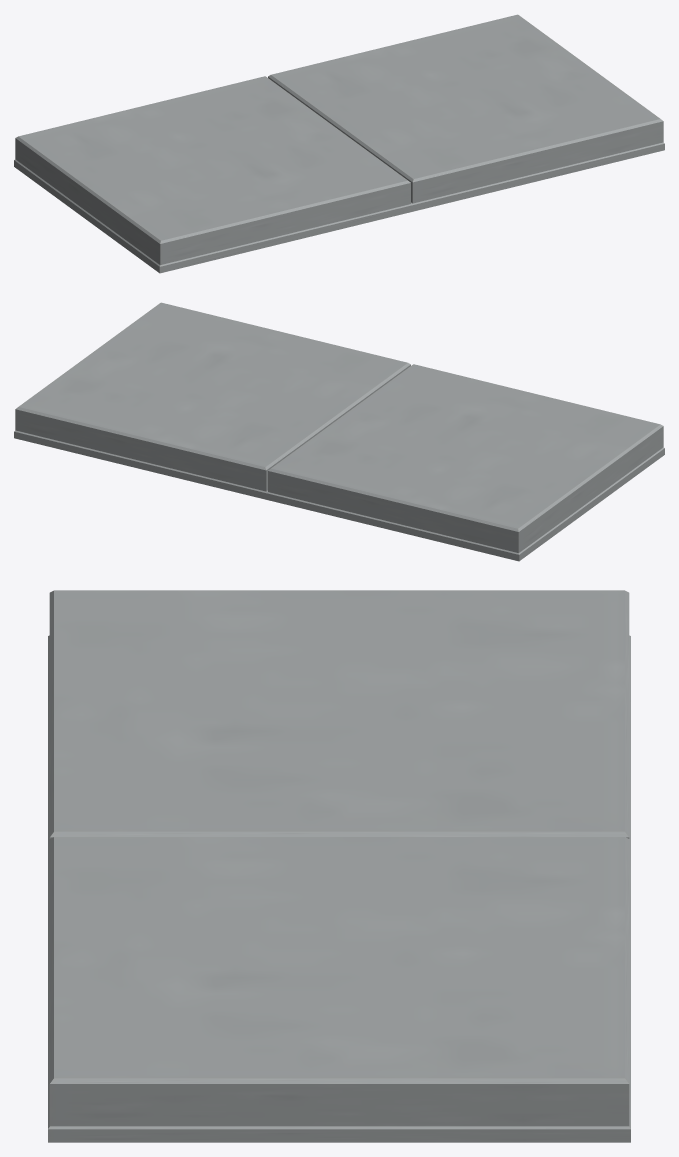
The model's file is showcase_sidewalk_transition.glb.
The picture shows the model from 3 angles, top to bottom: view 1: azimuth 30°, elevation 25°; view 2: azimuth 150°, elevation 25°; view 3: azimuth 270°, elevation 25°; orthographic projection. The views are drawn at different scales.
Parts seen in each view (by area): view 1: outdoor_showcase_sidewalk_transition; view 2: outdoor_showcase_sidewalk_transition; view 3: outdoor_showcase_sidewalk_transition.
Boxes of the visible parts, x1,y1,x2,y2 form: outdoor_showcase_sidewalk_transition: [14, 14, 664, 273]; outdoor_showcase_sidewalk_transition: [14, 302, 664, 561]; outdoor_showcase_sidewalk_transition: [48, 590, 630, 1142].
Size of the model in its own units: 2.4 by 0.14 by 1.2.
Materials: 1 (1 with a texture image).
